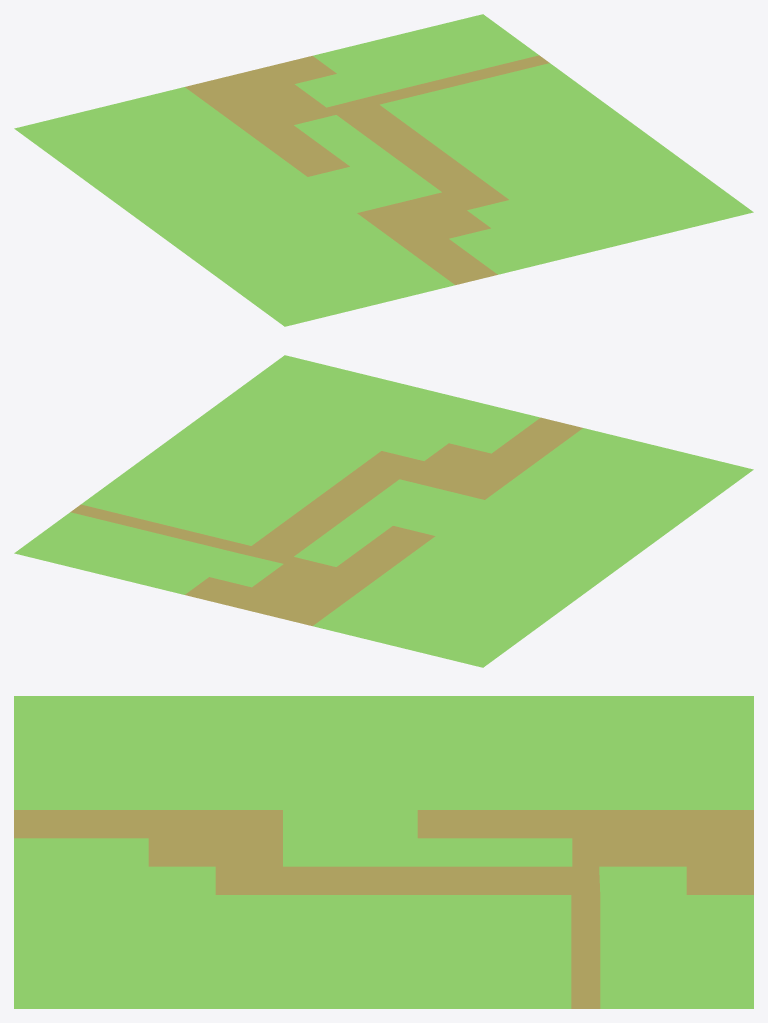
Rendered from Estrada_Inicial.fbx.
3 views of the same model, one above another, from view 1: azimuth 30°, elevation 25°; view 2: azimuth 150°, elevation 25°; view 3: azimuth 270°, elevation 25° (orthographic). The views are drawn at different scales.
Parts seen in each view (by area): view 1: Estrada_Inicial; view 2: Estrada_Inicial; view 3: Estrada_Inicial.
Boxes of the visible parts, x1=… form: Estrada_Inicial: x1=14, y1=14, x2=753, y2=326; Estrada_Inicial: x1=14, y1=355, x2=753, y2=667; Estrada_Inicial: x1=14, y1=696, x2=753, y2=1008.
Bounding box in the file's own units: 7000 × 0 × 7000.
